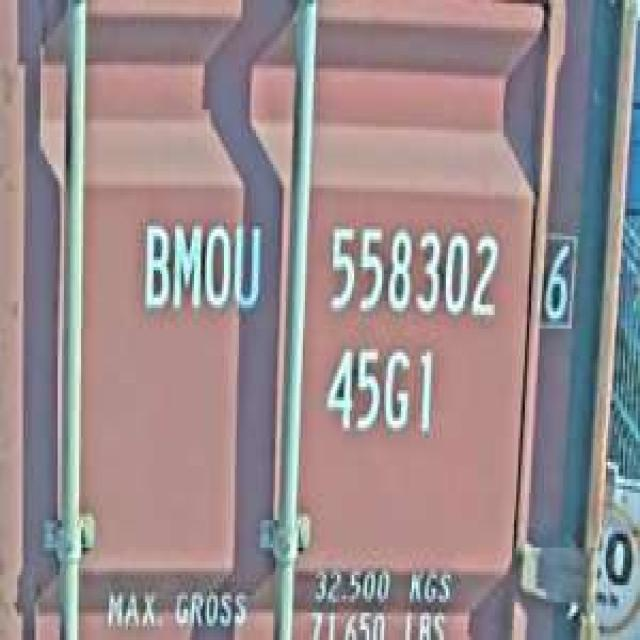dv: (538, 222, 580, 332)
owner: (134, 208, 267, 328)
serial: (320, 215, 506, 328)
size: (320, 335, 439, 445)
